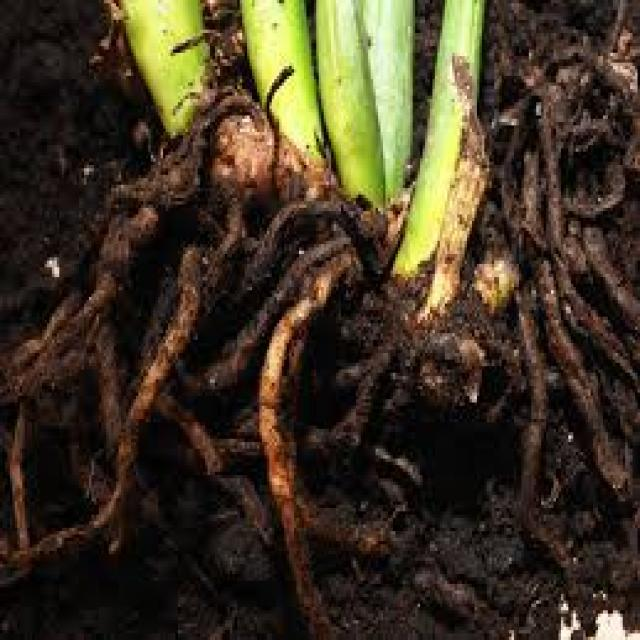root_rot: (80, 52, 574, 586)
